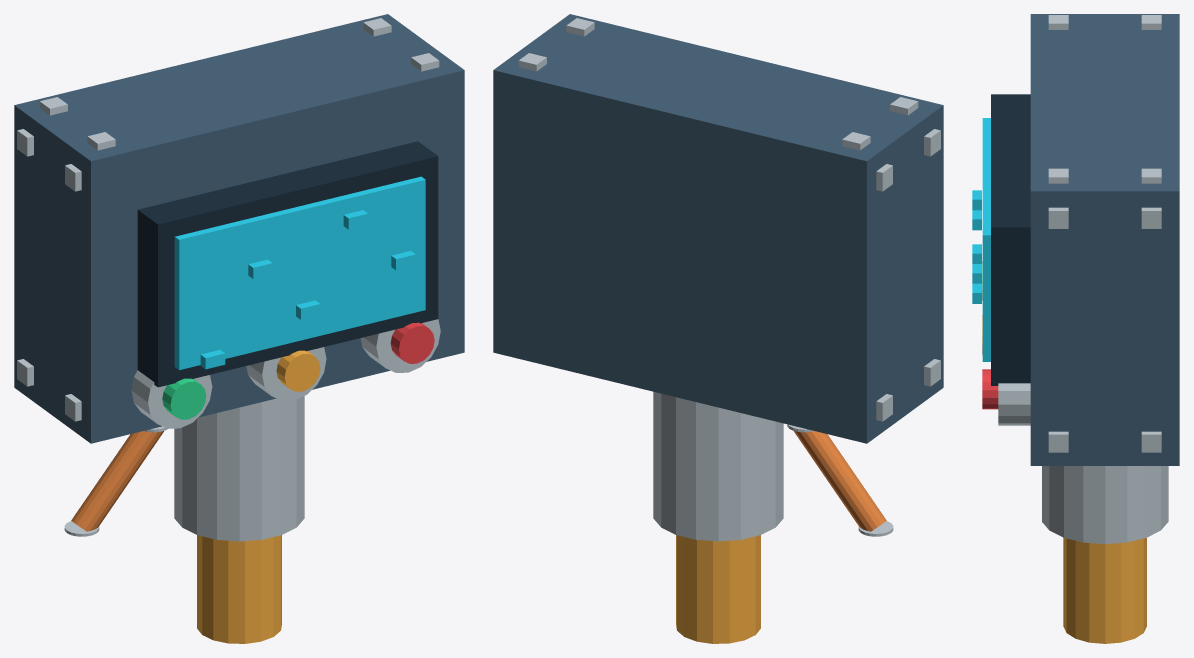
Rendered from 22_L77_OpticalCopperRemovalEndpointSensor.fbx.
The picture shows the model from 3 angles, left to right: view 1: azimuth 30°, elevation 25°; view 2: azimuth 150°, elevation 25°; view 3: azimuth 270°, elevation 25°; orthographic projection. The views are drawn at different scales.
Visible parts, largest first — view 1: OpticalCopperRemovalEndpointSensor_Part_0000, OpticalCopperRemovalEndpointSensor_Part_0010, OpticalCopperRemovalEndpointSensor_Part_0009, OpticalCopperRemovalEndpointSensor_Part_0026, OpticalCopperRemovalEndpointSensor_Part_0027, OpticalCopperRemovalEndpointSensor_Part_0023, OpticalCopperRemovalEndpointSensor_Part_0016, OpticalCopperRemovalEndpointSensor_Part_0018, OpticalCopperRemovalEndpointSensor_Part_0020, OpticalCopperRemovalEndpointSensor_Part_0017, OpticalCopperRemovalEndpointSensor_Part_0019, OpticalCopperRemovalEndpointSensor_Part_0021; view 2: OpticalCopperRemovalEndpointSensor_Part_0000, OpticalCopperRemovalEndpointSensor_Part_0026, OpticalCopperRemovalEndpointSensor_Part_0027, OpticalCopperRemovalEndpointSensor_Part_0023; view 3: OpticalCopperRemovalEndpointSensor_Part_0000, OpticalCopperRemovalEndpointSensor_Part_0009, OpticalCopperRemovalEndpointSensor_Part_0026, OpticalCopperRemovalEndpointSensor_Part_0027, OpticalCopperRemovalEndpointSensor_Part_0010, OpticalCopperRemovalEndpointSensor_Part_0020, OpticalCopperRemovalEndpointSensor_Part_0021, OpticalCopperRemovalEndpointSensor_Part_0001, OpticalCopperRemovalEndpointSensor_Part_0002, OpticalCopperRemovalEndpointSensor_Part_0003, OpticalCopperRemovalEndpointSensor_Part_0004, OpticalCopperRemovalEndpointSensor_Part_0007 (+3 smaller).
Part boxes in pixels (left/top/right/bottom): OpticalCopperRemovalEndpointSensor_Part_0000: left=14, top=14, right=464, bottom=443; OpticalCopperRemovalEndpointSensor_Part_0010: left=174, top=176, right=425, bottom=370; OpticalCopperRemovalEndpointSensor_Part_0009: left=137, top=141, right=438, bottom=387; OpticalCopperRemovalEndpointSensor_Part_0026: left=174, top=396, right=304, bottom=541; OpticalCopperRemovalEndpointSensor_Part_0027: left=197, top=535, right=281, bottom=643; OpticalCopperRemovalEndpointSensor_Part_0023: left=71, top=431, right=163, bottom=531; OpticalCopperRemovalEndpointSensor_Part_0016: left=131, top=370, right=212, bottom=428; OpticalCopperRemovalEndpointSensor_Part_0018: left=246, top=347, right=326, bottom=400; OpticalCopperRemovalEndpointSensor_Part_0020: left=360, top=319, right=440, bottom=372; OpticalCopperRemovalEndpointSensor_Part_0017: left=162, top=378, right=206, bottom=419; OpticalCopperRemovalEndpointSensor_Part_0019: left=276, top=350, right=320, bottom=391; OpticalCopperRemovalEndpointSensor_Part_0021: left=390, top=322, right=434, bottom=363; OpticalCopperRemovalEndpointSensor_Part_0000: left=493, top=14, right=943, bottom=443; OpticalCopperRemovalEndpointSensor_Part_0026: left=653, top=391, right=783, bottom=541; OpticalCopperRemovalEndpointSensor_Part_0027: left=676, top=535, right=760, bottom=643; OpticalCopperRemovalEndpointSensor_Part_0023: left=794, top=431, right=886, bottom=531; OpticalCopperRemovalEndpointSensor_Part_0000: left=1030, top=14, right=1179, bottom=465; OpticalCopperRemovalEndpointSensor_Part_0009: left=991, top=94, right=1030, bottom=385; OpticalCopperRemovalEndpointSensor_Part_0026: left=1042, top=466, right=1168, bottom=544; OpticalCopperRemovalEndpointSensor_Part_0027: left=1063, top=538, right=1146, bottom=643; OpticalCopperRemovalEndpointSensor_Part_0010: left=982, top=118, right=990, bottom=361; OpticalCopperRemovalEndpointSensor_Part_0020: left=998, top=383, right=1030, bottom=425; OpticalCopperRemovalEndpointSensor_Part_0021: left=982, top=369, right=998, bottom=409; OpticalCopperRemovalEndpointSensor_Part_0001: left=1141, top=431, right=1161, bottom=452; OpticalCopperRemovalEndpointSensor_Part_0002: left=1048, top=431, right=1068, bottom=452; OpticalCopperRemovalEndpointSensor_Part_0003: left=1141, top=207, right=1161, bottom=228; OpticalCopperRemovalEndpointSensor_Part_0004: left=1048, top=207, right=1068, bottom=228; OpticalCopperRemovalEndpointSensor_Part_0007: left=1141, top=168, right=1161, bottom=183.
Size of the model in its own units: 54 by 72.75 by 25.82.
